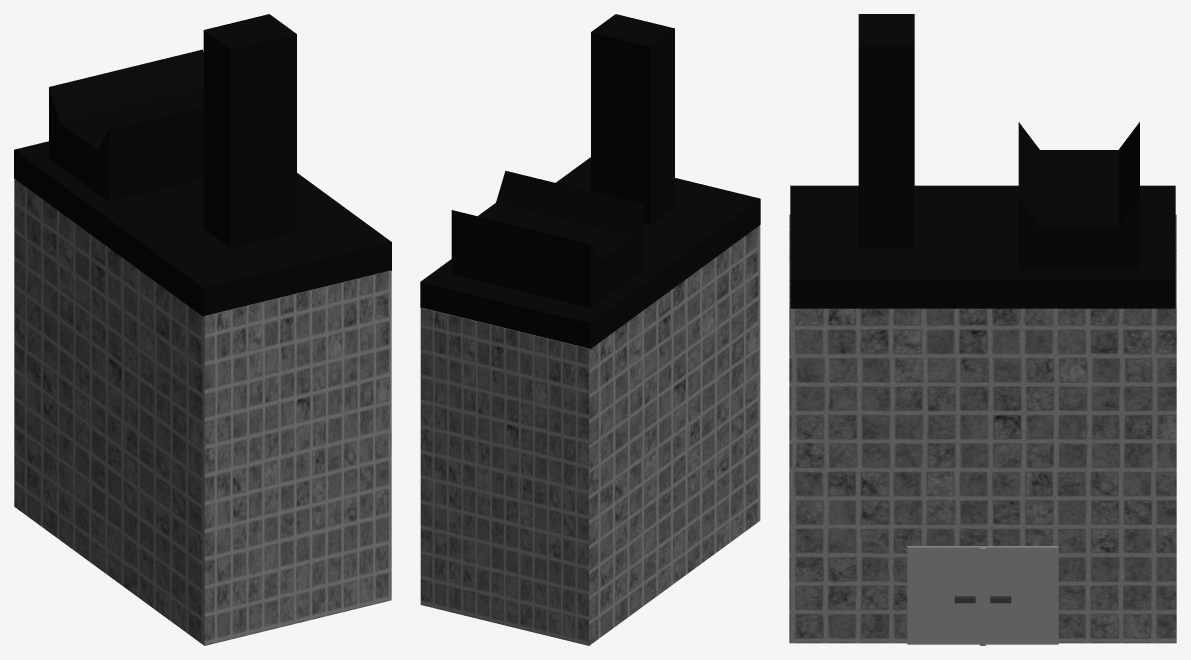
File: house3.fbx
3 views of the same model, side by side, from view 1: azimuth 30°, elevation 25°; view 2: azimuth 150°, elevation 25°; view 3: azimuth 270°, elevation 25° (orthographic). The views are drawn at different scales.
Parts seen in each view (by area): view 1: Cube.001, Cube; view 2: Cube.001, Cube; view 3: Cube.001, Cube, Cube.002.
Boxes of the visible parts, x1,y1,x2,y2 form: Cube.001: (14, 179, 391, 645); Cube: (14, 14, 391, 316); Cube.001: (420, 225, 760, 645); Cube: (420, 14, 760, 349); Cube.001: (789, 214, 1176, 643); Cube: (790, 14, 1175, 308); Cube.002: (907, 546, 1058, 645).
Size of the model in its own units: 1415 by 3872 by 2399.
